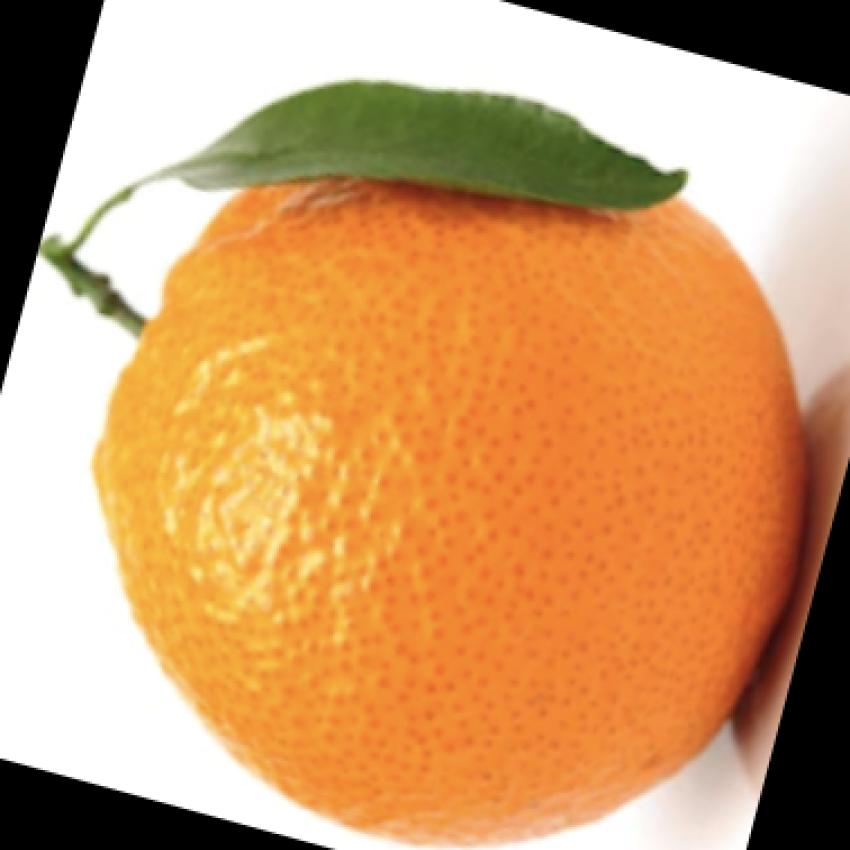Buen estado: (91, 85, 831, 840)
